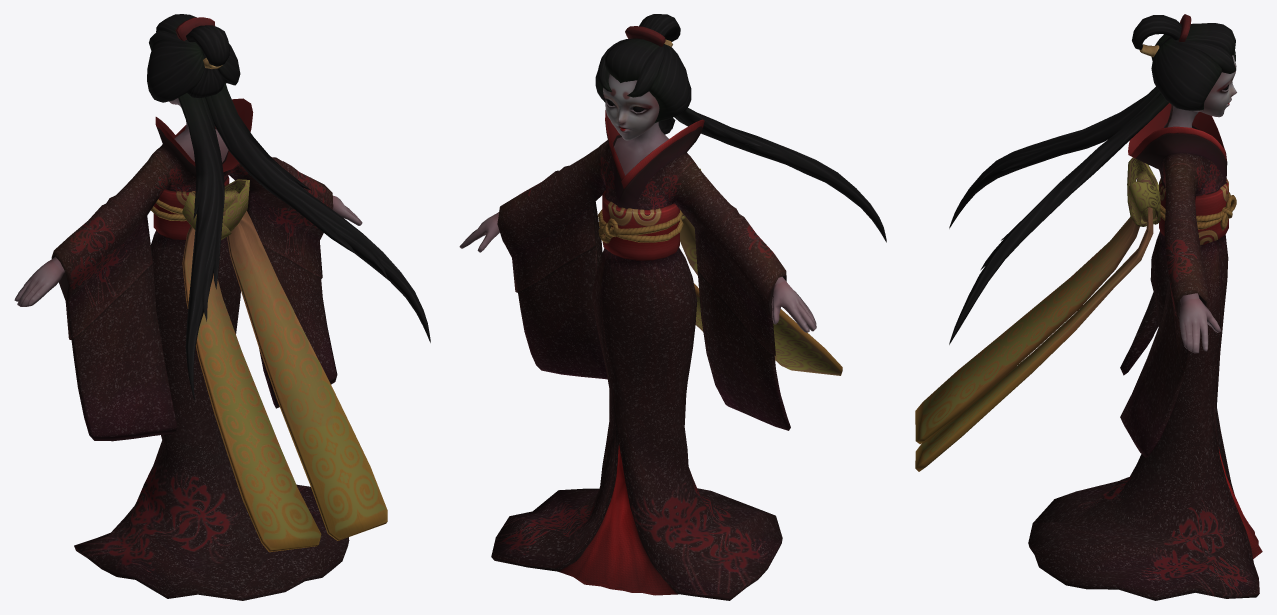
File: banshee.glb
3 views of the same model, side by side, from view 1: azimuth 30°, elevation 25°; view 2: azimuth 150°, elevation 25°; view 3: azimuth 270°, elevation 25° (orthographic). The views are drawn at different scales.
Visible parts, largest first — view 1: h55_butcher_banshee_body, h55_butcher_banshee_head; view 2: h55_butcher_banshee_body, h55_butcher_banshee_head; view 3: h55_butcher_banshee_body, h55_butcher_banshee_head.
Part boxes in pixels (box(x1,y1,x2,y2)): h55_butcher_banshee_body: box(14, 98, 387, 600); h55_butcher_banshee_head: box(147, 14, 430, 399); h55_butcher_banshee_body: box(459, 110, 842, 600); h55_butcher_banshee_head: box(595, 14, 886, 242); h55_butcher_banshee_body: box(915, 103, 1262, 600); h55_butcher_banshee_head: box(949, 14, 1236, 344).
Bounding box in the file's own units: 0.4074 × 0.5927 × 0.3548.
Materials: 2 (2 with a texture image).
